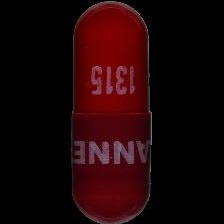0527-1315: (0, 0, 224, 224)
